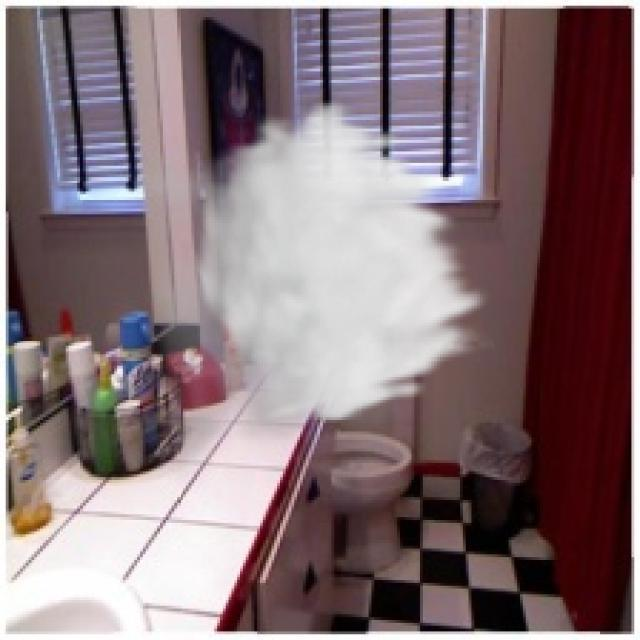Smoke: (122, 97, 494, 494)
